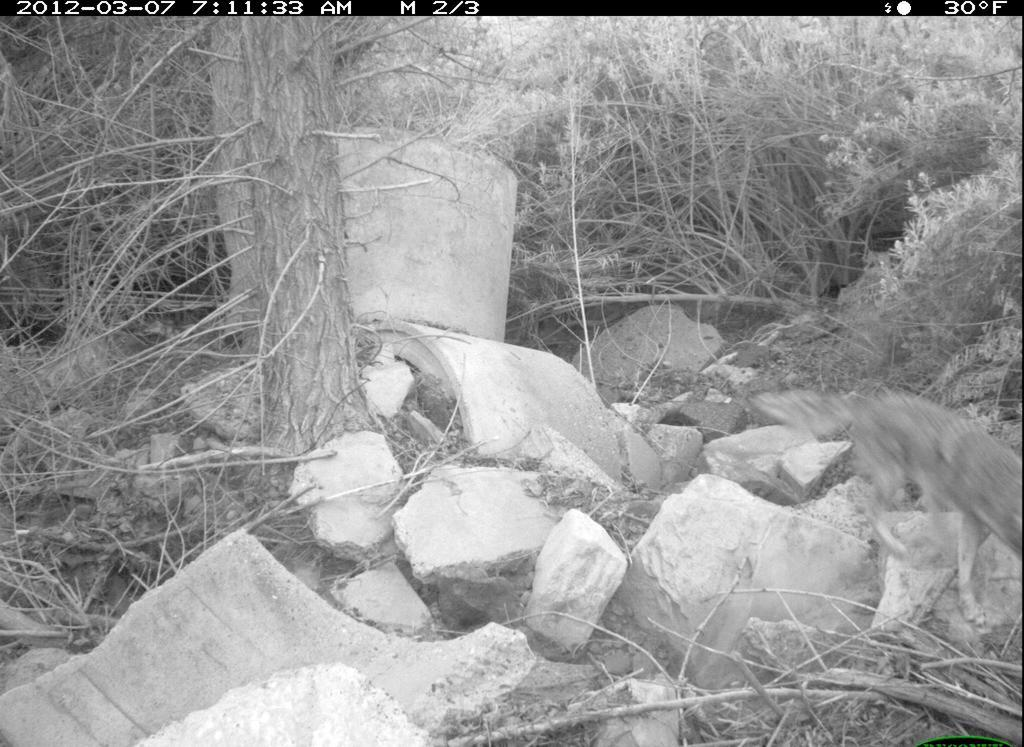coyote: (749, 354, 1023, 637)
